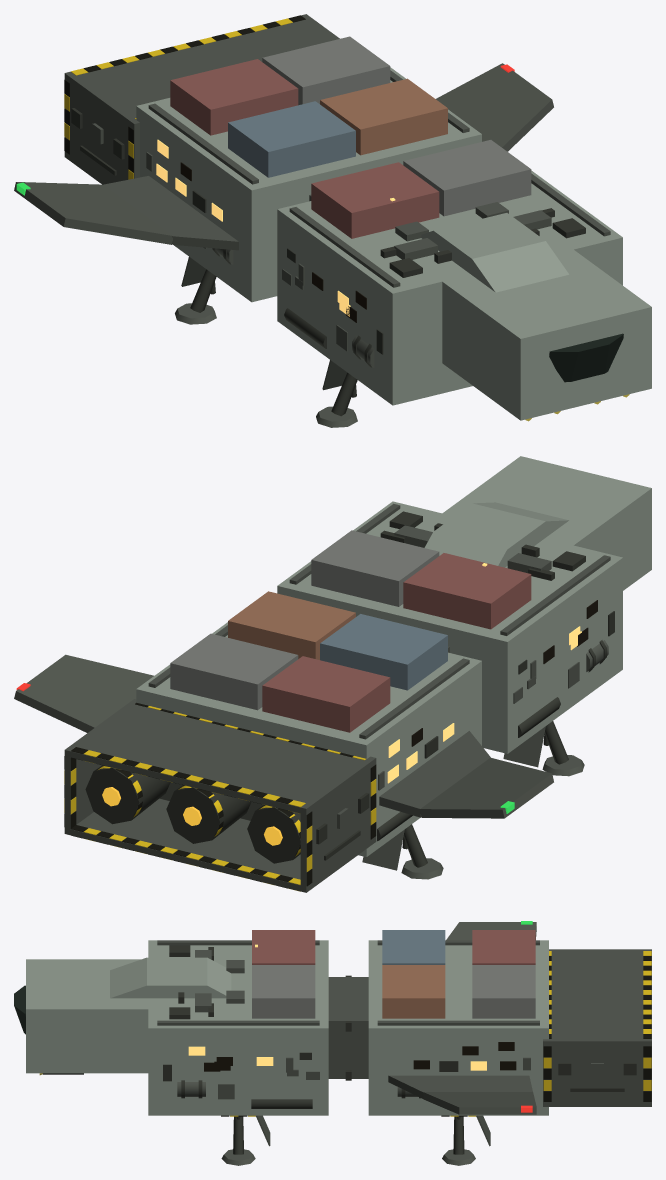
File: freighter-m.glb
3 renders of one model, top to bottom at view 1: azimuth 30°, elevation 25°; view 2: azimuth 150°, elevation 25°; view 3: azimuth 270°, elevation 25°, orthographic. The views are drawn at different scales.
Visible parts, largest first — view 1: hullMain, hullNose, hullSection1, shroudPlateTop, cargoContainer1_1L, cargoContainer0_0L, canopyFairing, cargoContainer1_0L, cargoContainer1_1R, cargoContainer0_0R, wingOuterRight, cargoContainer1_0R (+9 smaller); view 2: hullMain, shroudPlateTop, hullSection1, hullNose, engineHousing (×3), shroudPlateBottom, cargoContainer1_0L, cargoContainer0_0L, cargoContainer1_1L, wingOuterRight, cargoContainer0_0R, cargoContainer1_0R (+11 smaller); view 3: hullMain, hullSection1, hullNose, shroudPlateTop, shroudPlateRight, canopyFairing, gantry0, cargoContainer0_0R, cargoContainer1_0R, cargoContainer1_1R, wingInnerRight, wingOuterRight (+12 smaller).
Boxes of the visible parts, x1,y1,x2,y2 form: hullMain: (277,170,622,405); hullNose: (435,244,651,420); hullSection1: (136,67,481,302); shroudPlateTop: (64,14,339,129); cargoContainer1_1L: (228,101,355,177); cargoContainer0_0L: (311,162,439,238); canopyFairing: (421,213,568,292); cargoContainer1_0L: (170,59,298,135); cargoContainer1_1R: (320,78,447,155); cargoContainer0_0R: (403,140,531,216); wingOuterRight: (436,63,553,151); cargoContainer1_0R: (262,36,390,105); hullMain: (277,501,622,753); shroudPlateTop: (64,699,376,814); hullSection1: (136,622,481,856); hullNose: (442,456,651,590); engineHousing (×3): (85,765,300,863); shroudPlateBottom: (64,798,376,892); cargoContainer1_0L: (262,656,390,732); cargoContainer0_0L: (403,553,531,629); cargoContainer1_1L: (320,614,447,690); wingOuterRight: (14,654,153,732); cargoContainer0_0R: (311,530,439,606); cargoContainer1_0R: (170,633,298,710); hullMain: (148,940,328,1115); hullSection1: (368,940,548,1115); hullNose: (26,959,159,1073); shroudPlateTop: (543,949,651,1045); shroudPlateRight: (543,1046,651,1102); canopyFairing: (110,957,231,998); gantry0: (328,977,368,1078); cargoContainer0_0R: (252,965,315,1018); cargoContainer1_0R: (472,965,535,1018); cargoContainer1_1R: (382,965,445,1018); wingInnerRight: (388,1075,532,1098); wingOuterRight: (423,1092,536,1114).
Size of the model in its own units: 5.96 by 2.27 by 8.6.
